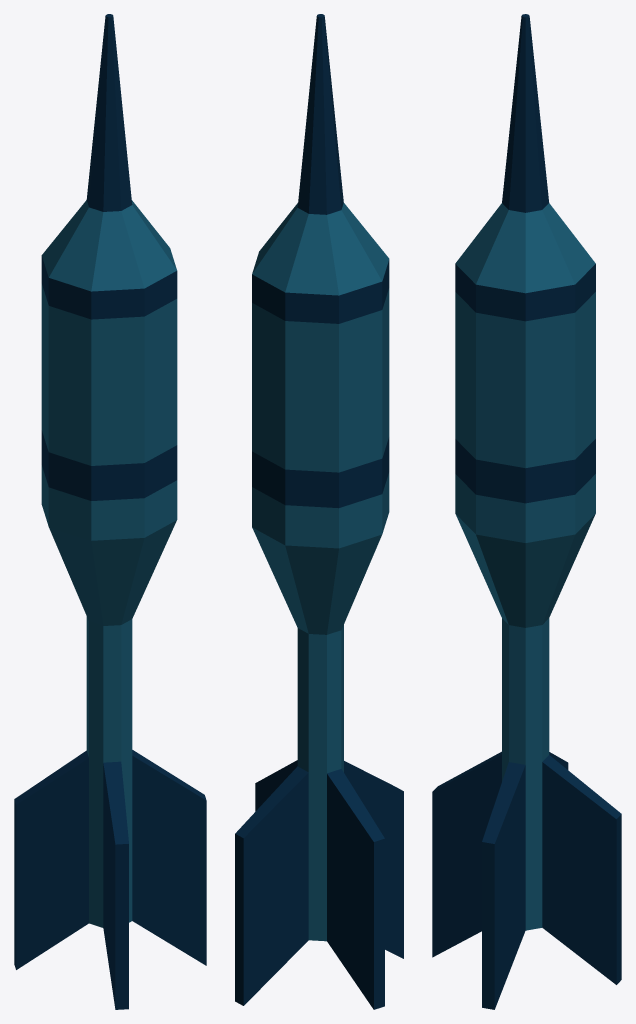
File: dart_normal.fbx
3 renders of one model, left to right at view 1: azimuth 30°, elevation 25°; view 2: azimuth 150°, elevation 25°; view 3: azimuth 270°, elevation 25°, orthographic.
Parts seen in each view (by area): view 1: Cylinder.001; view 2: Cylinder.001; view 3: Cylinder.001.
Part boxes in pixels (box(x1,y1,x2,y2)): Cylinder.001: box(14, 14, 206, 1009); Cylinder.001: box(235, 14, 403, 1009); Cylinder.001: box(432, 14, 621, 1009).
Bounding box in the file's own units: 92.74 × 534 × 96.01.
